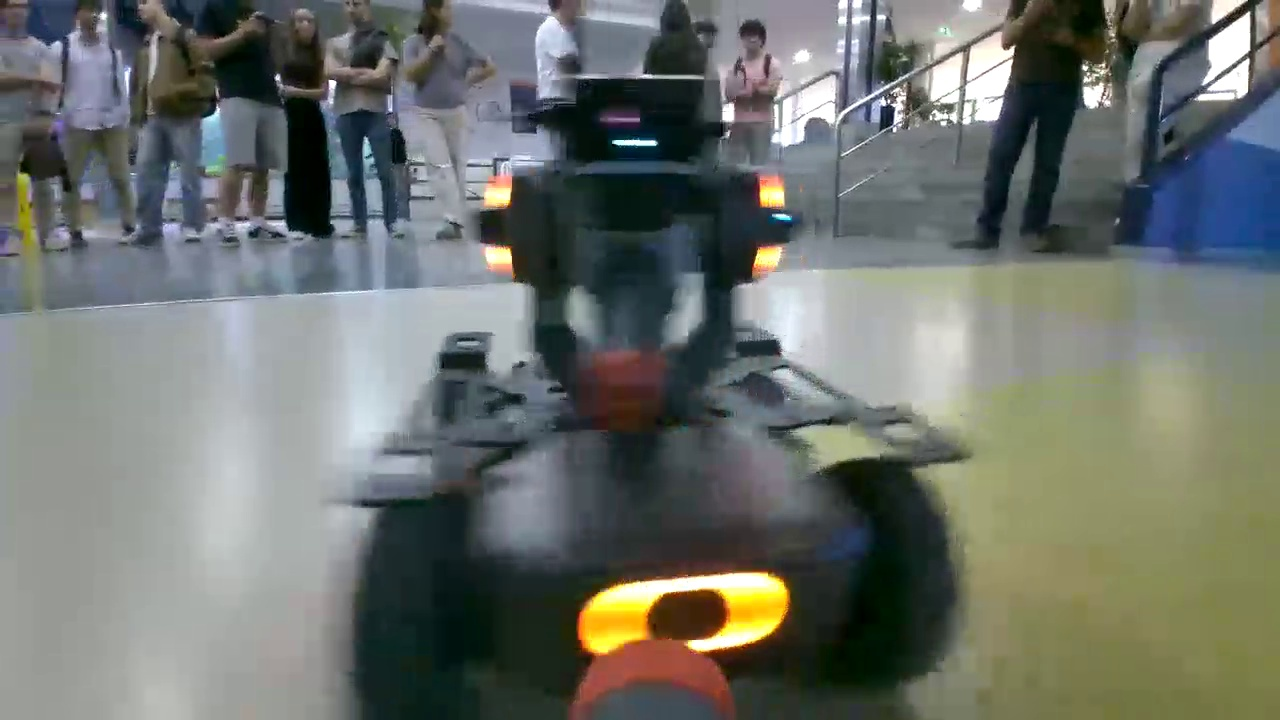robot: (345, 72, 962, 720)
